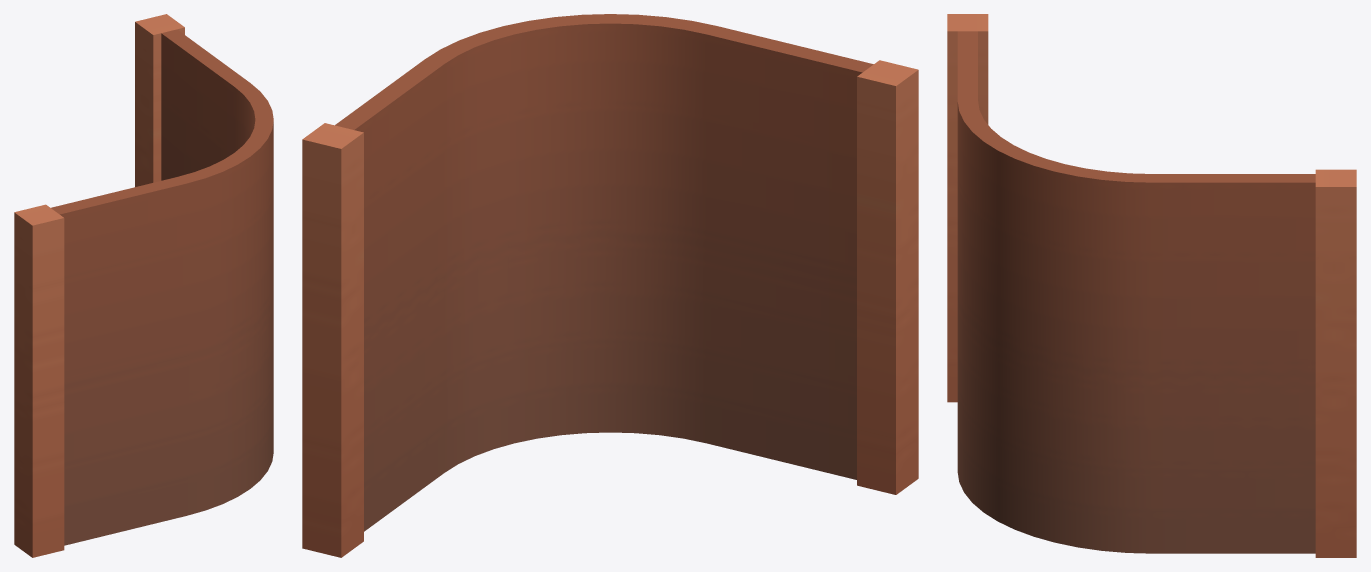
File: wallWoodRounded.fbx
3 views of the same model, side by side, from view 1: azimuth 30°, elevation 25°; view 2: azimuth 150°, elevation 25°; view 3: azimuth 270°, elevation 25° (orthographic). The views are drawn at different scales.
Visible parts, largest first — view 1: wallWoodRounded; view 2: wallWoodRounded; view 3: wallWoodRounded.
Part boxes in pixels (x1=…): wallWoodRounded: x1=14, y1=14, x2=273, y2=557; wallWoodRounded: x1=302, y1=14, x2=918, y2=557; wallWoodRounded: x1=947, y1=14, x2=1356, y2=557.
Size of the model in its own units: 1 by 1 by 1.
